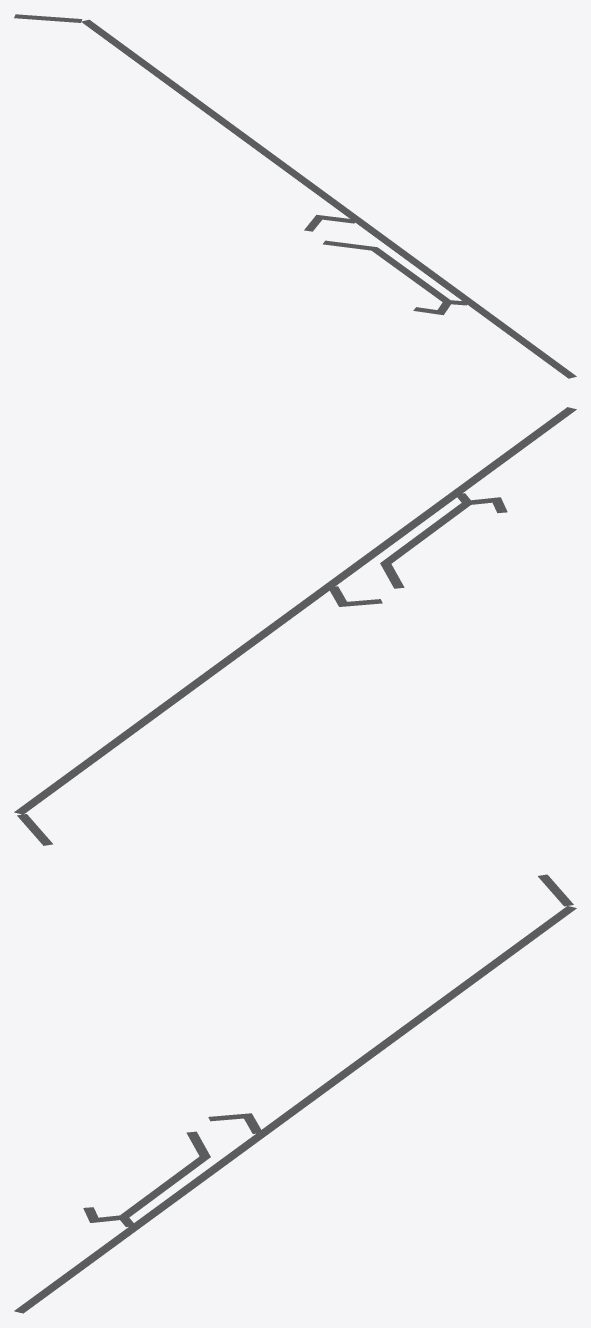
File: SM_Pav_Vialetti_B2.fbx
The picture shows the model from 3 angles, top to bottom: view 1: azimuth 30°, elevation 25°; view 2: azimuth 150°, elevation 25°; view 3: azimuth 330°, elevation 25°; orthographic projection. The views are drawn at different scales.
Visible parts, largest first — view 1: SM_Pav_Vialetti_B2; view 2: SM_Pav_Vialetti_B2; view 3: SM_Pav_Vialetti_B2.
Boxes of the visible parts, box(x1,y1,x2,y2) form: SM_Pav_Vialetti_B2: box(14, 14, 576, 378); SM_Pav_Vialetti_B2: box(14, 407, 576, 845); SM_Pav_Vialetti_B2: box(14, 874, 576, 1313).
Size of what is drawn, in the model's own units: 1704 by 27144 by 5.8.
Materials: 1 (1 with a texture image).
